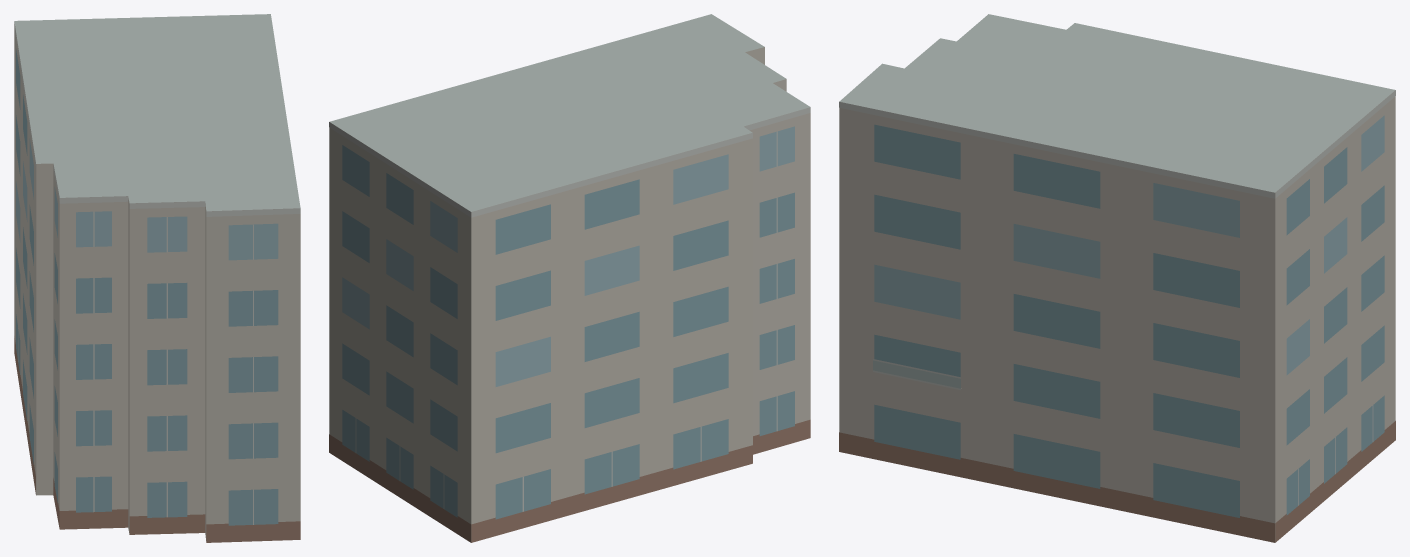
The model's file is survey-upis-32601791.glb.
The picture shows the model from 3 angles, left to right: view 1: azimuth 30°, elevation 25°; view 2: azimuth 150°, elevation 25°; view 3: azimuth 270°, elevation 25°; orthographic projection. The views are drawn at different scales.
Visible parts, largest first — view 1: survey-upis-32601791.tmp; view 2: survey-upis-32601791.tmp; view 3: survey-upis-32601791.tmp.
Part boxes in pixels (x1,y1,x2,y2): survey-upis-32601791.tmp: (14, 14, 300, 542); survey-upis-32601791.tmp: (329, 14, 810, 542); survey-upis-32601791.tmp: (839, 14, 1395, 542).
Size of the model in its own units: 15.55 by 14.2 by 20.47.
